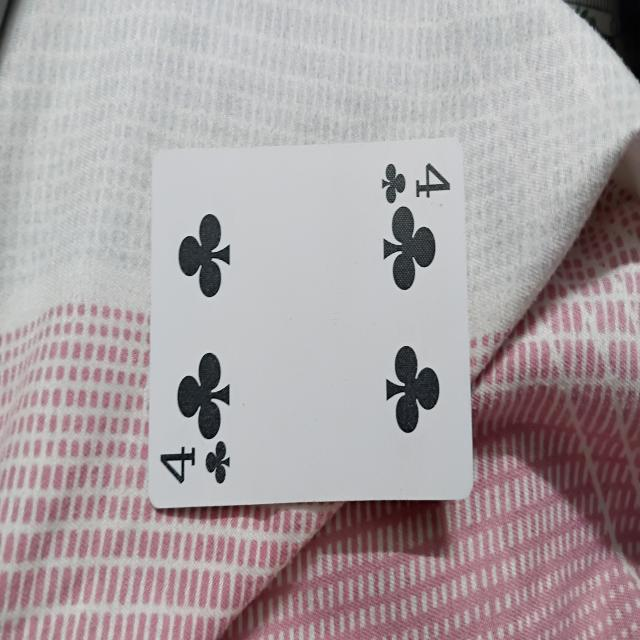4C: (148, 137, 472, 499)
